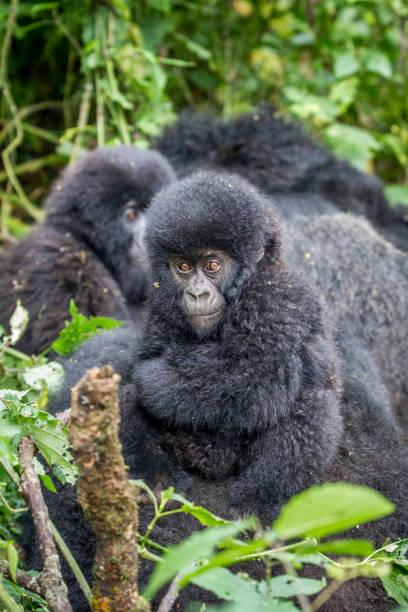goriile_montagne: (100, 164, 361, 513), (10, 119, 220, 324)
